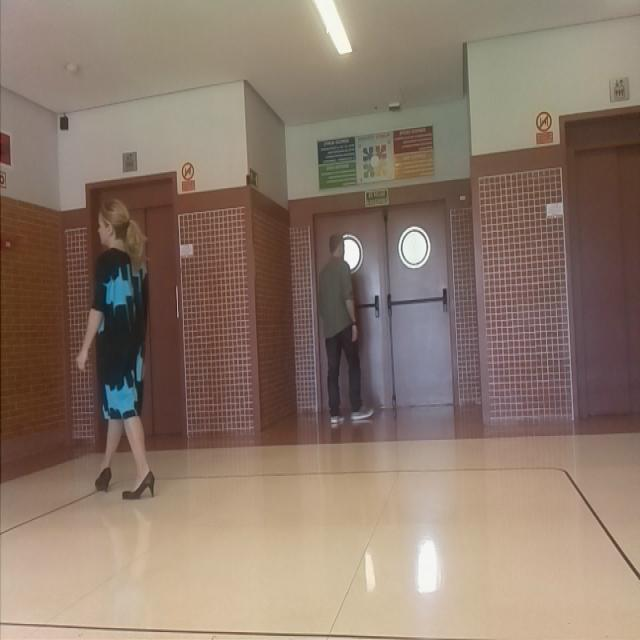person: (71, 199, 161, 504), (312, 231, 378, 431)
